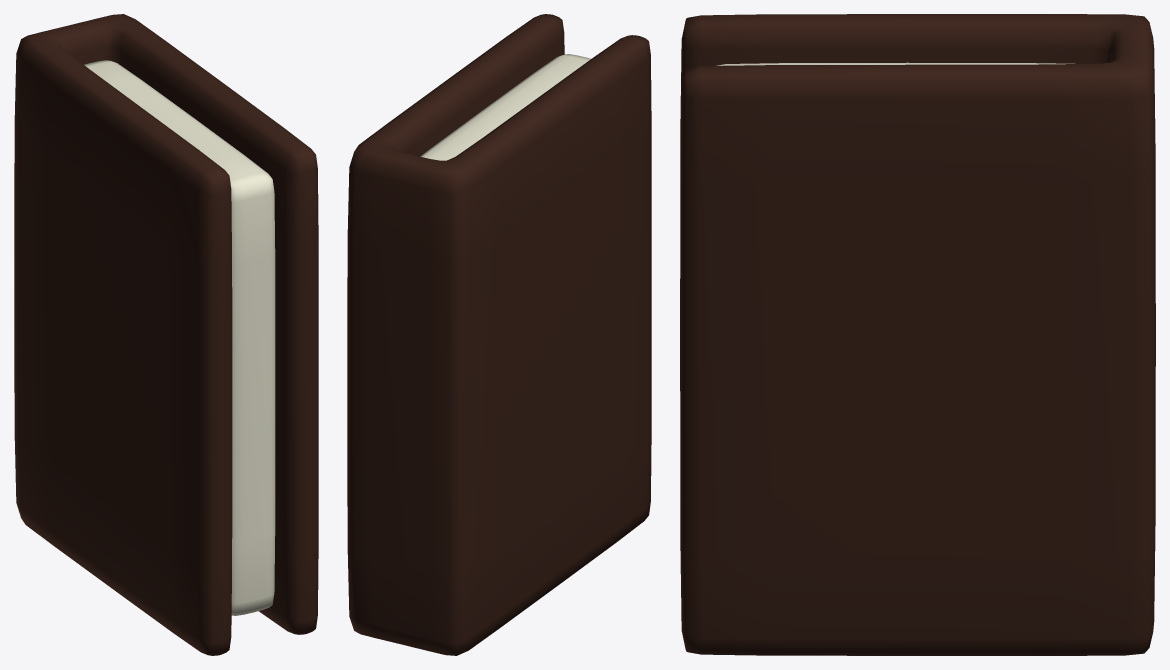
Rendered from book.glb.
The picture shows the model from 3 angles, left to right: view 1: azimuth 30°, elevation 25°; view 2: azimuth 150°, elevation 25°; view 3: azimuth 270°, elevation 25°; orthographic projection. The views are drawn at different scales.
Visible parts, largest first — view 1: Books; view 2: Books; view 3: Books.
Part boxes in pixels (box(x1,y1,x2,y2)): Books: box(14, 14, 318, 655); Books: box(347, 14, 651, 655); Books: box(680, 14, 1155, 655).
Bounding box in the file's own units: 0.2011 × 0.7837 × 0.5773.
1 material, 1 textured.
